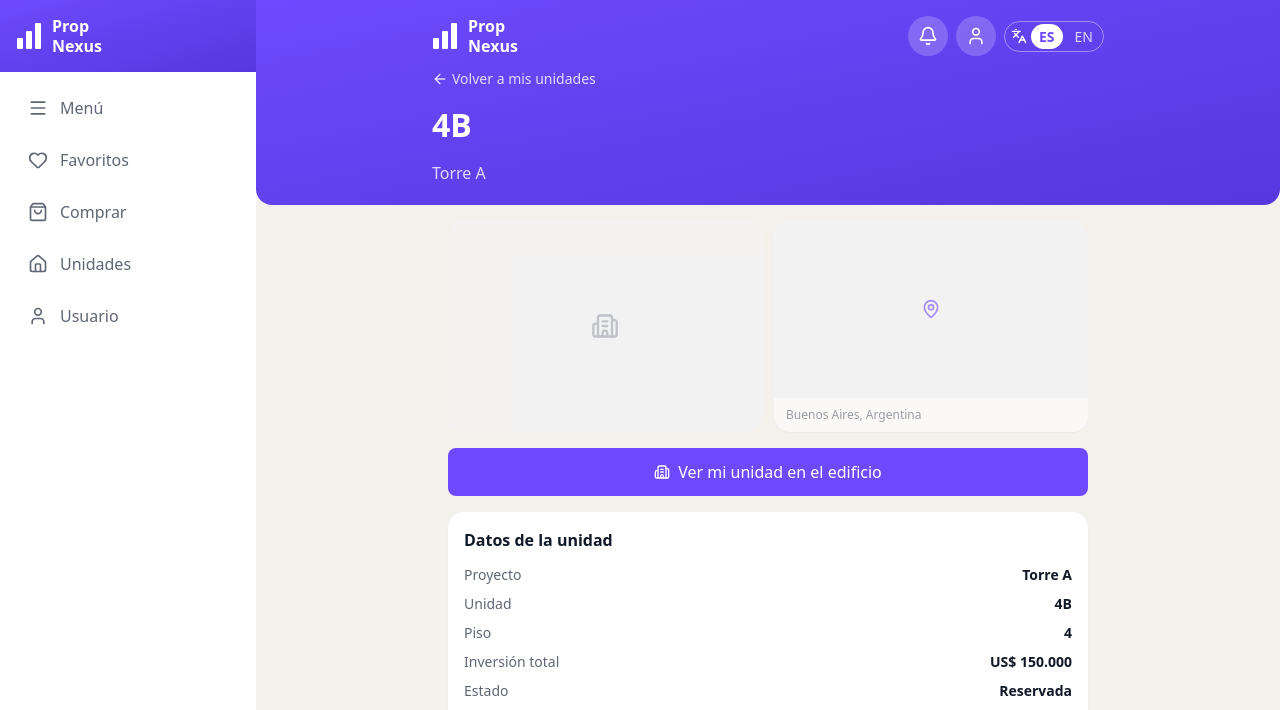
Test: /investor/unit/$unitId › esquema del edificio (INV-UNIT-BUILDING-001) › sin superficie el callout va sin tamaño
Step 1. Click the button "Ver mi unidad en el edificio" → click(768, 472), box left=448, top=448, right=1088, bottom=496
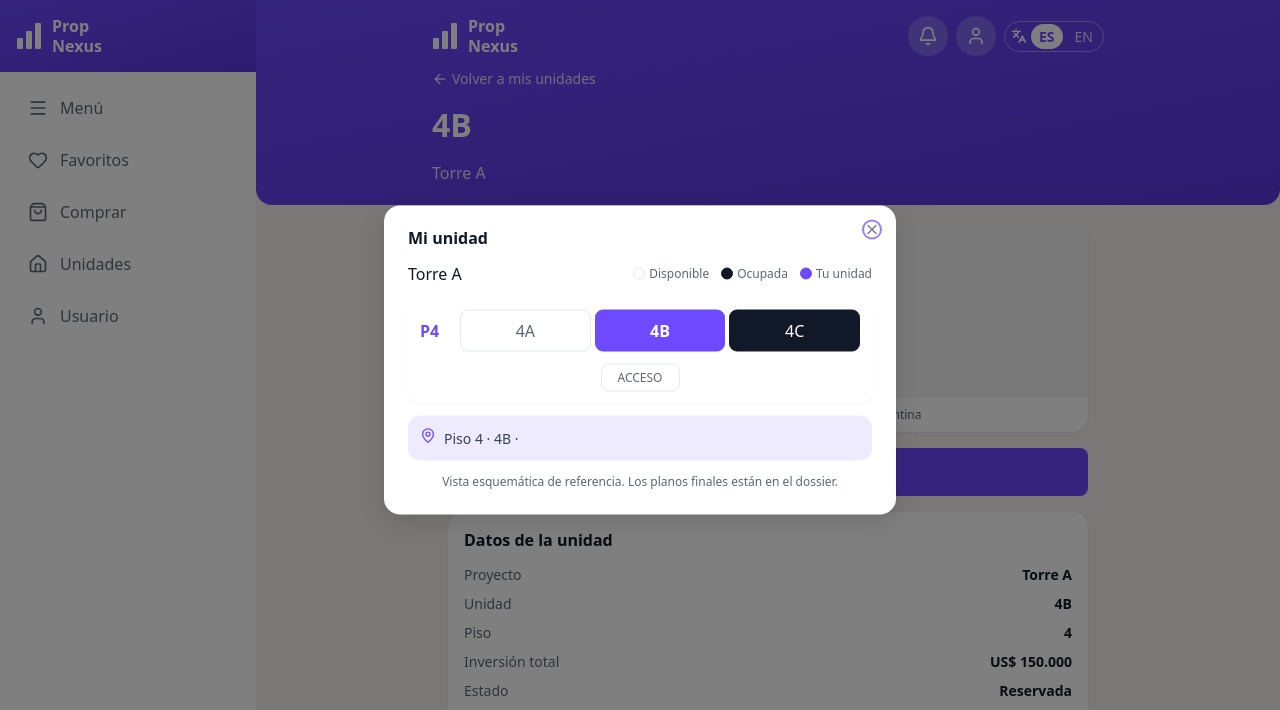
Now the text "4A" is shown, box left=460, top=310, right=591, bottom=352
